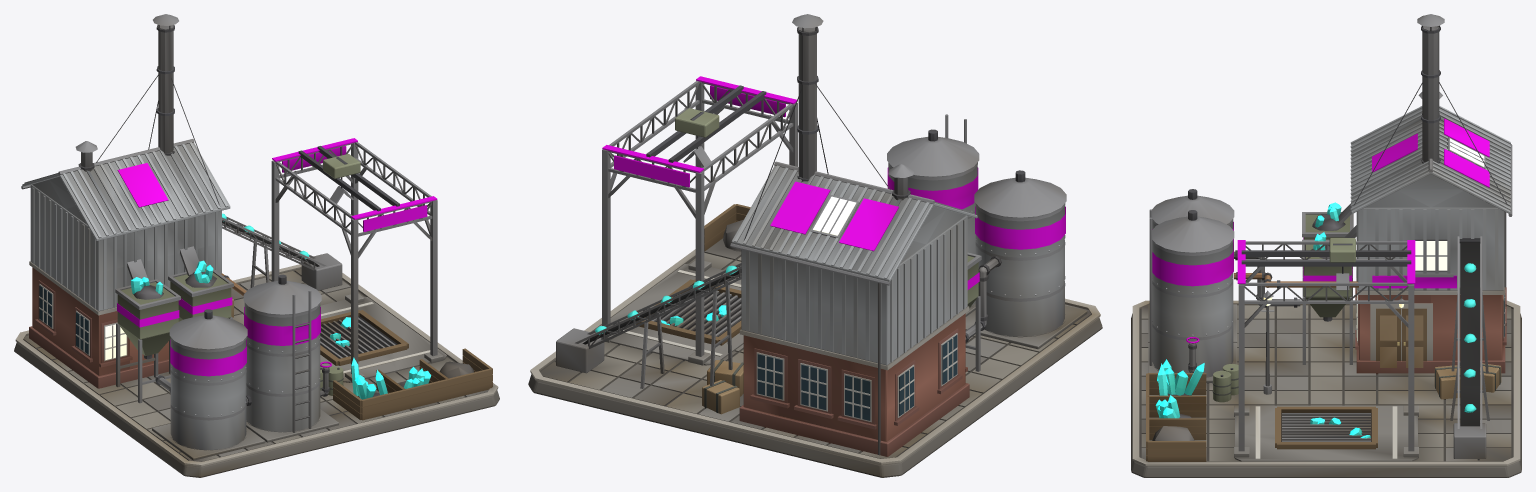
File: refinery_industrial.glb
3 renders of one model, left to right at view 1: azimuth 30°, elevation 25°; view 2: azimuth 150°, elevation 25°; view 3: azimuth 270°, elevation 25°, orthographic. The views are drawn at different scales.
Parts seen in each view (by area): view 1: Body; view 2: Body; view 3: Body.
Part boxes in pixels (box(x1,y1,x2,y2)): Body: box(14, 14, 499, 477); Body: box(528, 14, 1102, 477); Body: box(1131, 14, 1521, 477).
Bounding box in the file's own units: 5.99 × 6.09 × 5.99.
Materials: 1 (1 with a texture image).
